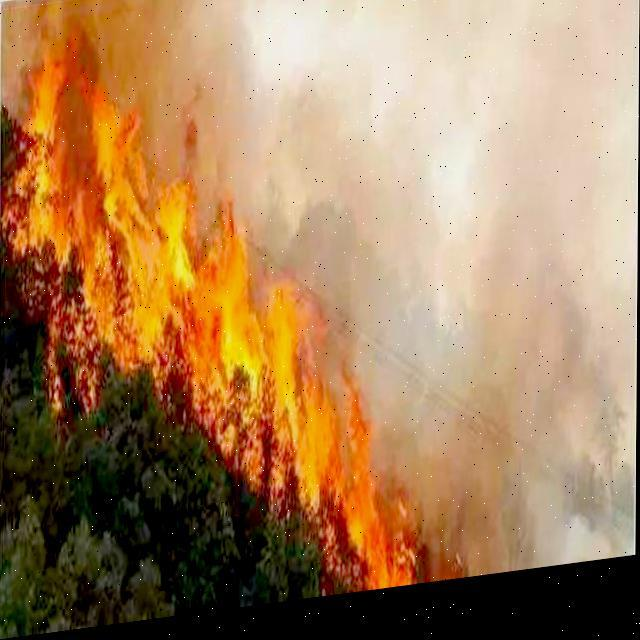Fire: (14, 0, 427, 635)
